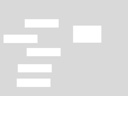square: (70, 23, 103, 45), (14, 75, 52, 89), (22, 16, 61, 29), (2, 32, 39, 44), (25, 46, 62, 58), (16, 62, 53, 73)
